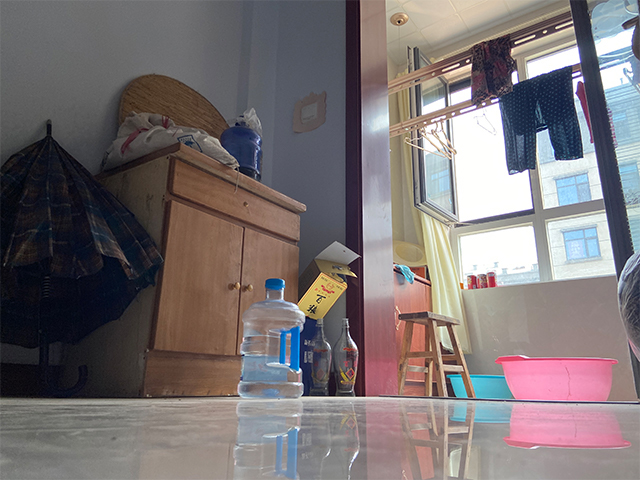cabinet: (59, 140, 308, 400)
stool: (399, 311, 476, 399)
